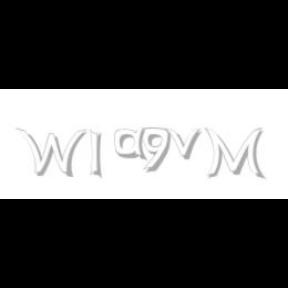9: (142, 128, 170, 172)
I: (90, 128, 102, 180)
M: (204, 128, 264, 180)
W: (15, 128, 87, 178)
a: (115, 128, 152, 160)
v: (165, 128, 205, 160)
